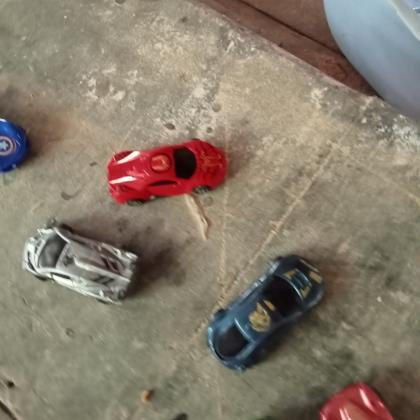Car: (202, 251, 328, 374), (21, 222, 142, 307), (106, 137, 228, 206)
